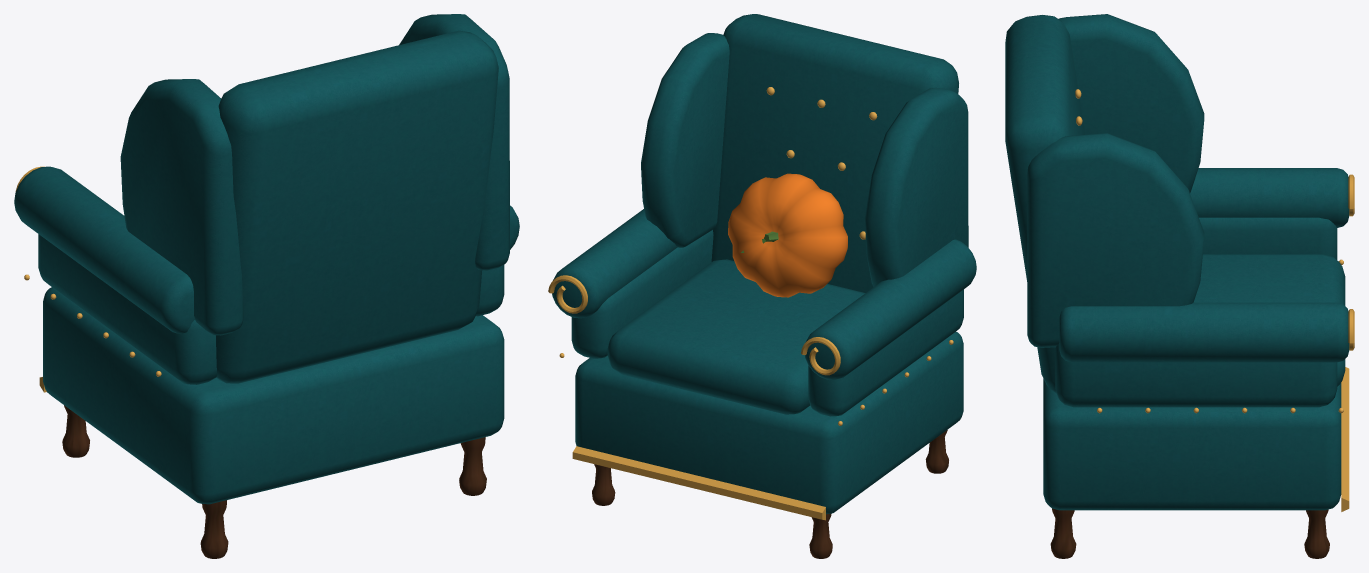
File: manor_armchair.glb
3 views of the same model, side by side, from view 1: azimuth 30°, elevation 25°; view 2: azimuth 150°, elevation 25°; view 3: azimuth 270°, elevation 25° (orthographic). The views are drawn at different scales.
Visible parts, largest first — view 1: Armchair; view 2: Armchair; view 3: Armchair.
Part boxes in pixels (x1,y1,x2,y2): Armchair: [14, 14, 519, 558]; Armchair: [548, 14, 976, 558]; Armchair: [1005, 14, 1354, 558].
Bounding box in the file's own units: 0.94 × 1.18 × 0.8673.
Materials: 7 (2 with a texture image).
